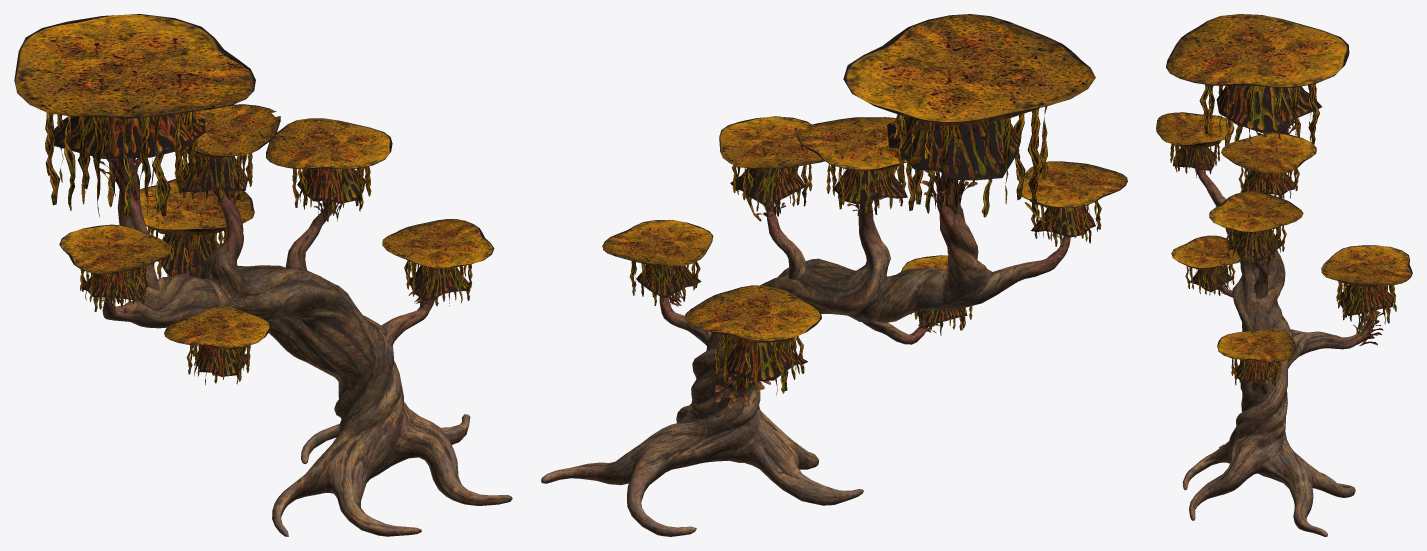
The model's file is mushroom_line_straight.glb.
3 renders of one model, left to right at view 1: azimuth 30°, elevation 25°; view 2: azimuth 150°, elevation 25°; view 3: azimuth 270°, elevation 25°, orthographic. The views are drawn at different scales.
Visible parts, largest first — view 1: tree 6; view 2: tree 6; view 3: tree 6.
Boxes of the visible parts, x1,y1,x2,y2 form: tree 6: (14, 14, 512, 536); tree 6: (541, 14, 1127, 536); tree 6: (1156, 14, 1412, 536).
Bounding box in the file's own units: 5.13 × 4.8 × 3.16.
Materials: 2 (2 with a texture image).
